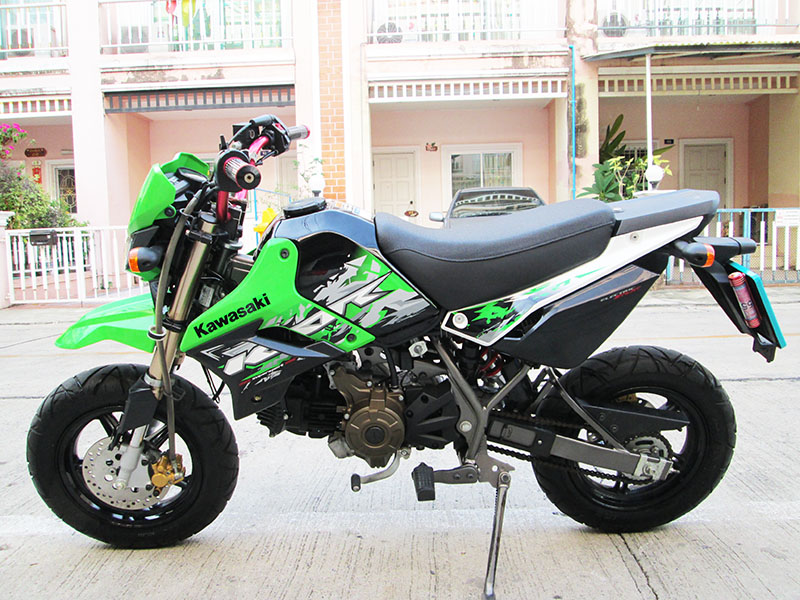motorcycle: (30, 150, 769, 550)
